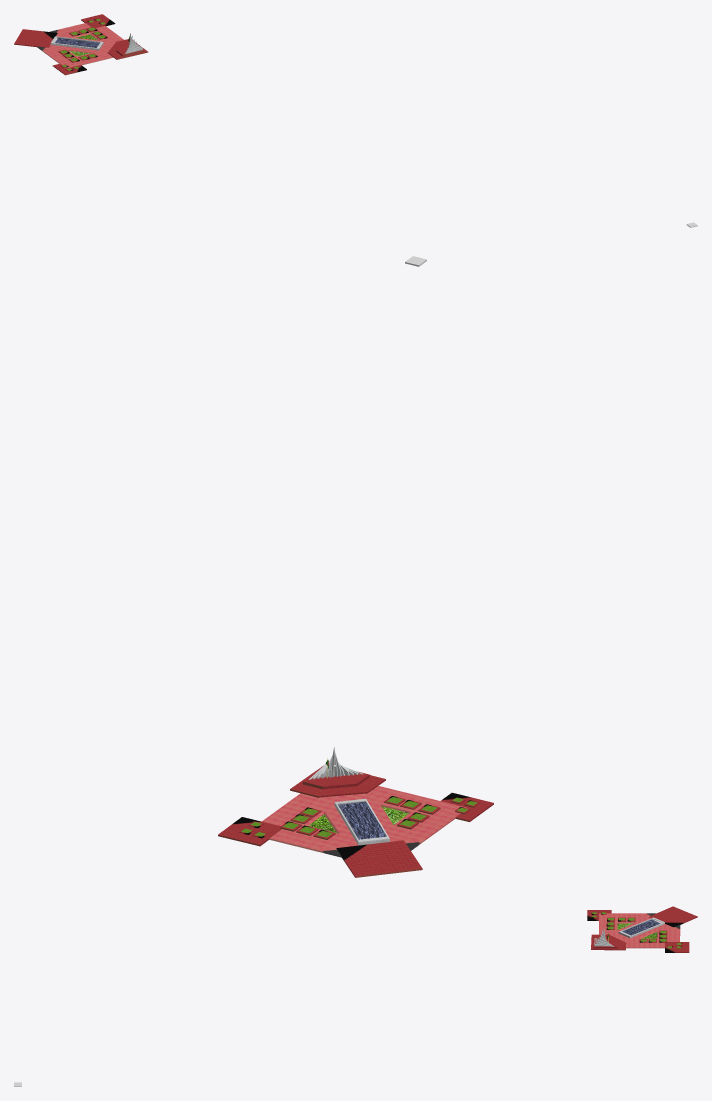
File: sritisoudho30.glb
The picture shows the model from 3 angles, top to bottom: view 1: azimuth 30°, elevation 25°; view 2: azimuth 150°, elevation 25°; view 3: azimuth 270°, elevation 25°; orthographic projection. The views are drawn at different scales.
Visible parts, largest first — view 1: Cube.016, Cube.026; view 2: Cube.016, Cube.026, Plane.001, Cube.015, Cube.019; view 3: Cube.016, Cube.026.
Boxes of the visible parts, bbox=[...] form: Cube.016: bbox=[37, 23, 123, 68]; Cube.026: bbox=[14, 29, 57, 47]; Cube.016: bbox=[262, 786, 467, 857]; Cube.026: bbox=[336, 840, 422, 877]; Plane.001: bbox=[338, 801, 386, 839]; Cube.015: bbox=[290, 765, 385, 797]; Cube.019: bbox=[218, 817, 281, 846]; Cube.016: bbox=[599, 913, 680, 948]; Cube.026: bbox=[649, 906, 697, 927].
Size of the model in its own units: 950 by 92 by 1683.
76 materials, 56 textured.
